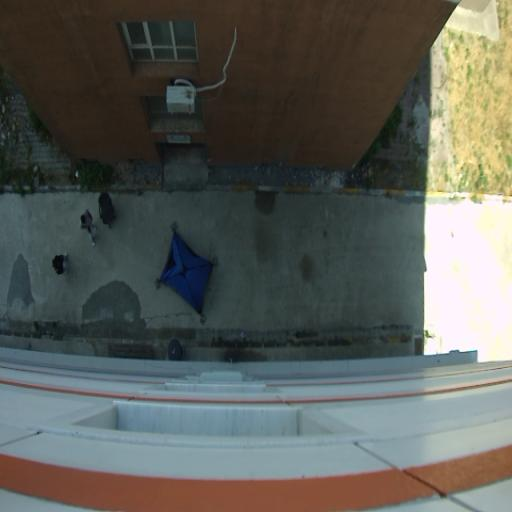tent: (156, 218, 222, 326)
